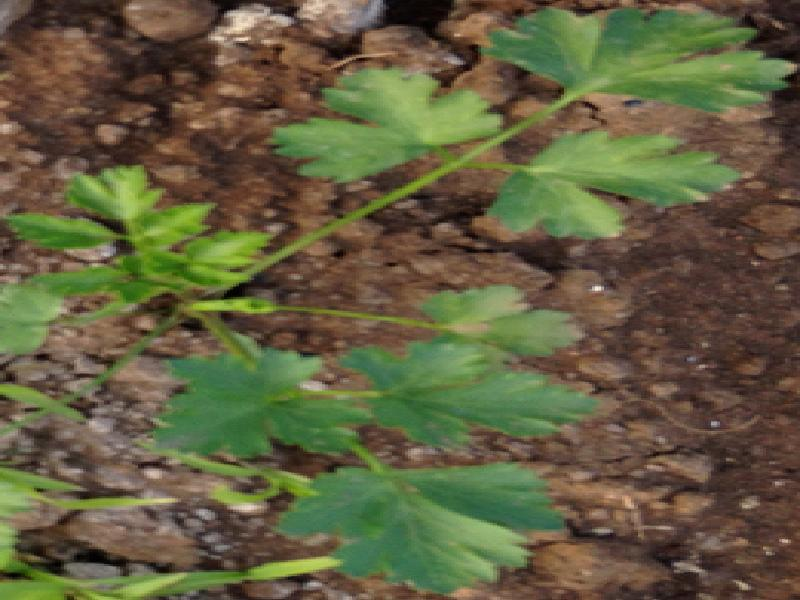radish: (2, 5, 794, 594)
